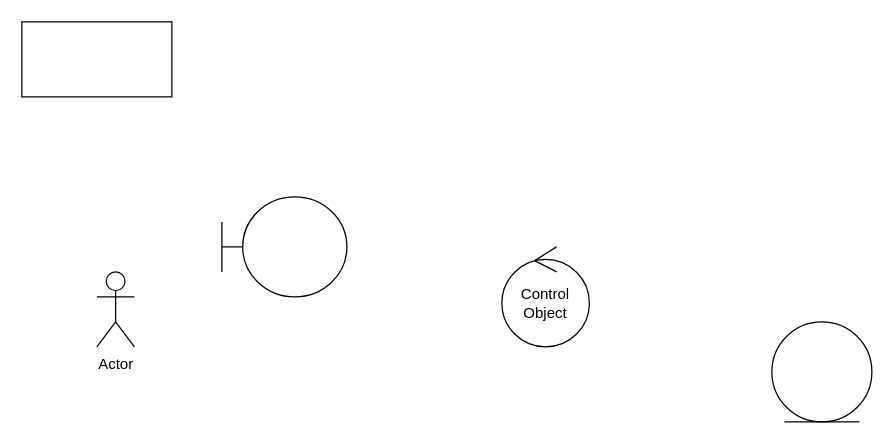
The diagram is 894 pixels wide and 444 high, and some of its shapes have lost their labels. The box of each missing label's shape, as (x1, y1, x2, y2) in pixels:
Boundary Object: (221, 196, 347, 297)
Entity Object: (771, 321, 872, 422)
